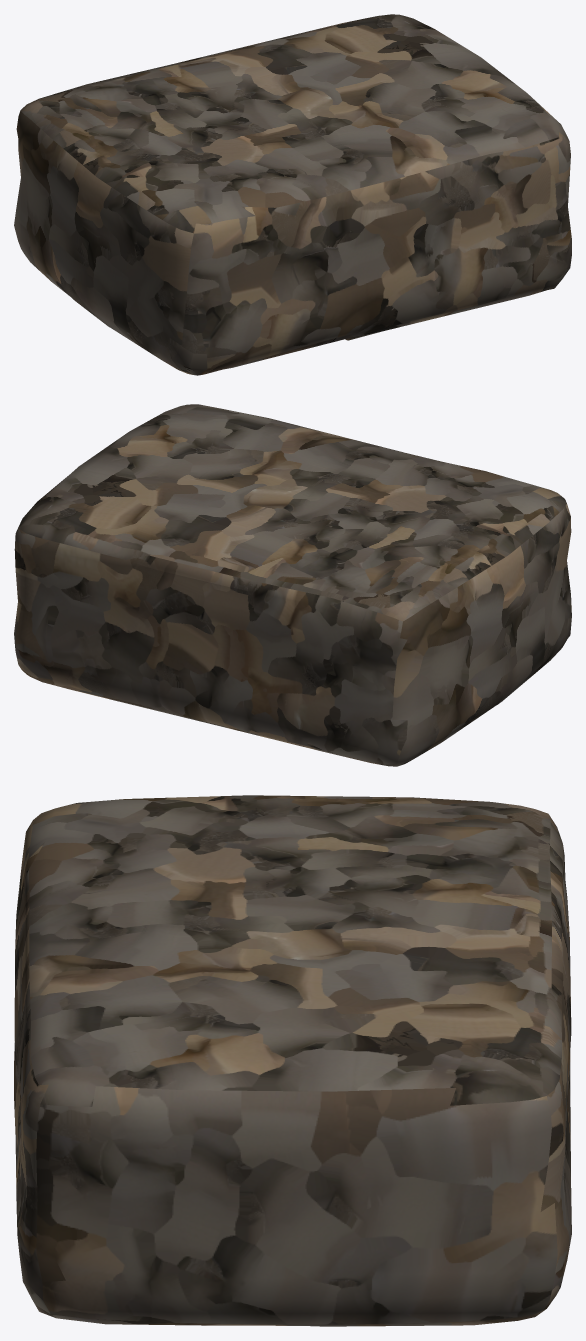
The model's file is 02Hay02 - Copy (3).fbx.
3 views of the same model, one above another, from view 1: azimuth 30°, elevation 25°; view 2: azimuth 150°, elevation 25°; view 3: azimuth 270°, elevation 25° (orthographic). The views are drawn at different scales.
Parts seen in each view (by area): view 1: temp; view 2: temp; view 3: temp.
Boxes of the visible parts, x1,y1,x2,y2 form: temp: (14,14,571,375); temp: (14,404,571,766); temp: (14,795,571,1326).
Bounding box in the file's own units: 190 × 73.79 × 140.
